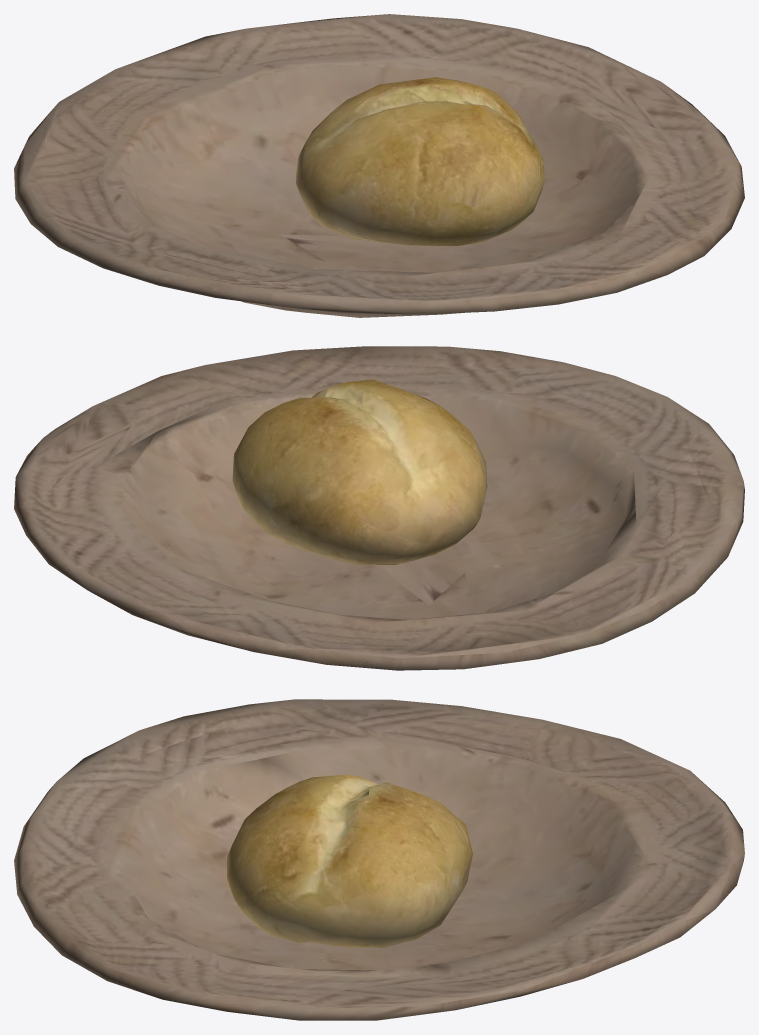
File: feast_plate.glb
3 renders of one model, top to bottom at view 1: azimuth 30°, elevation 25°; view 2: azimuth 150°, elevation 25°; view 3: azimuth 270°, elevation 25°, orthographic. The views are drawn at different scales.
Visible parts, largest first — view 1: feast_plate; view 2: feast_plate; view 3: feast_plate.
Boxes of the visible parts, box(x1,y1,x2,y2) form: feast_plate: box(14, 14, 744, 317); feast_plate: box(14, 346, 744, 670); feast_plate: box(14, 699, 744, 1020).
Size of the model in its own units: 0.2396 by 0.0569 by 0.2364.
Materials: 2 (2 with a texture image).
